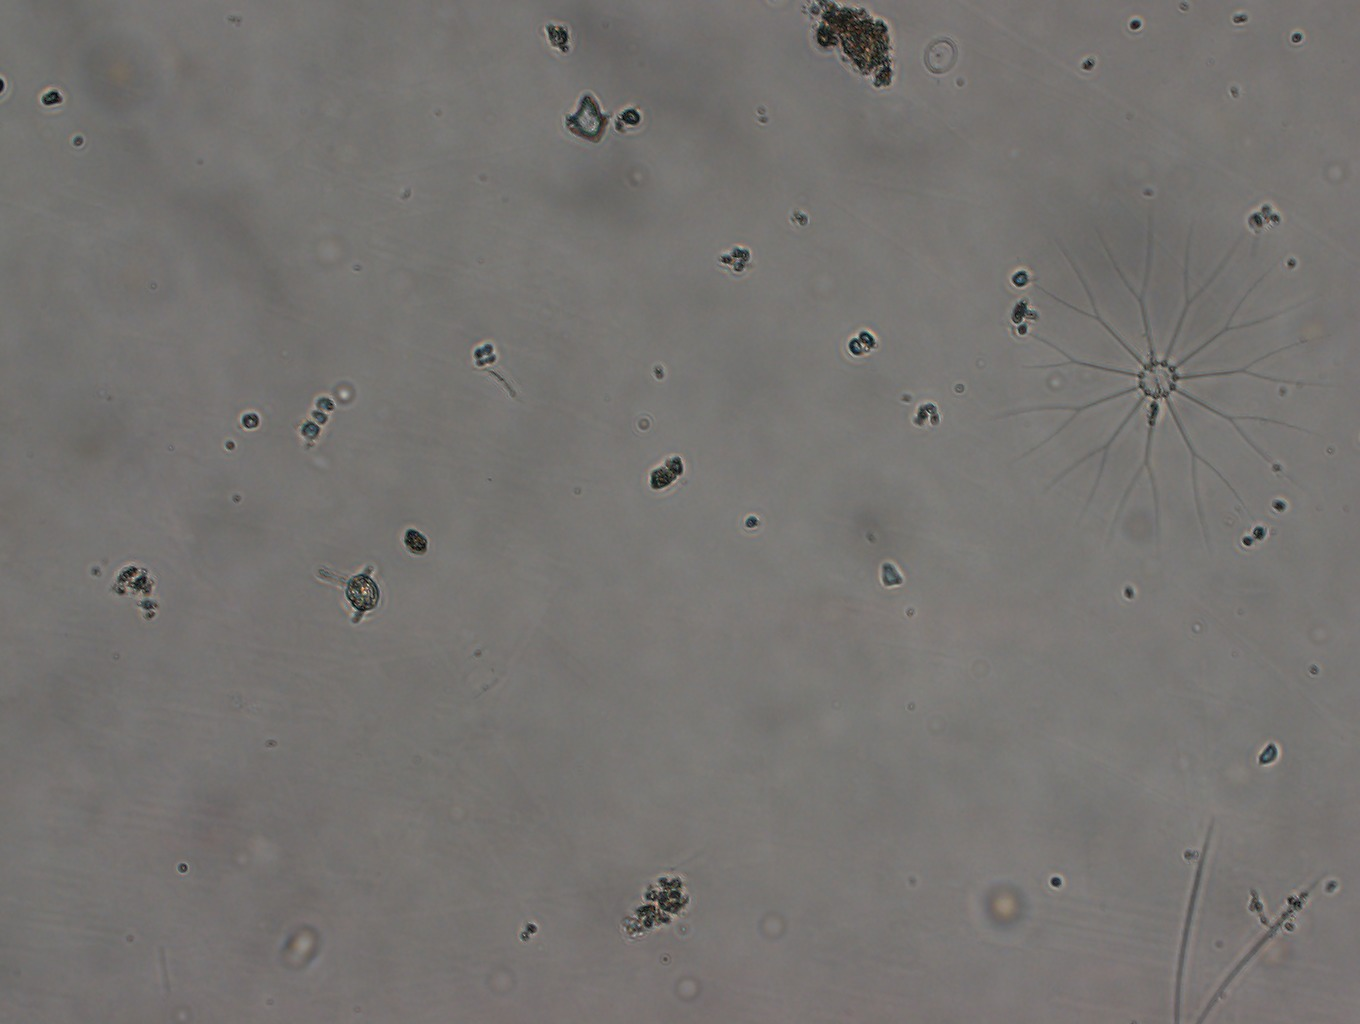bacteriastrum: (996, 216, 1335, 537)
